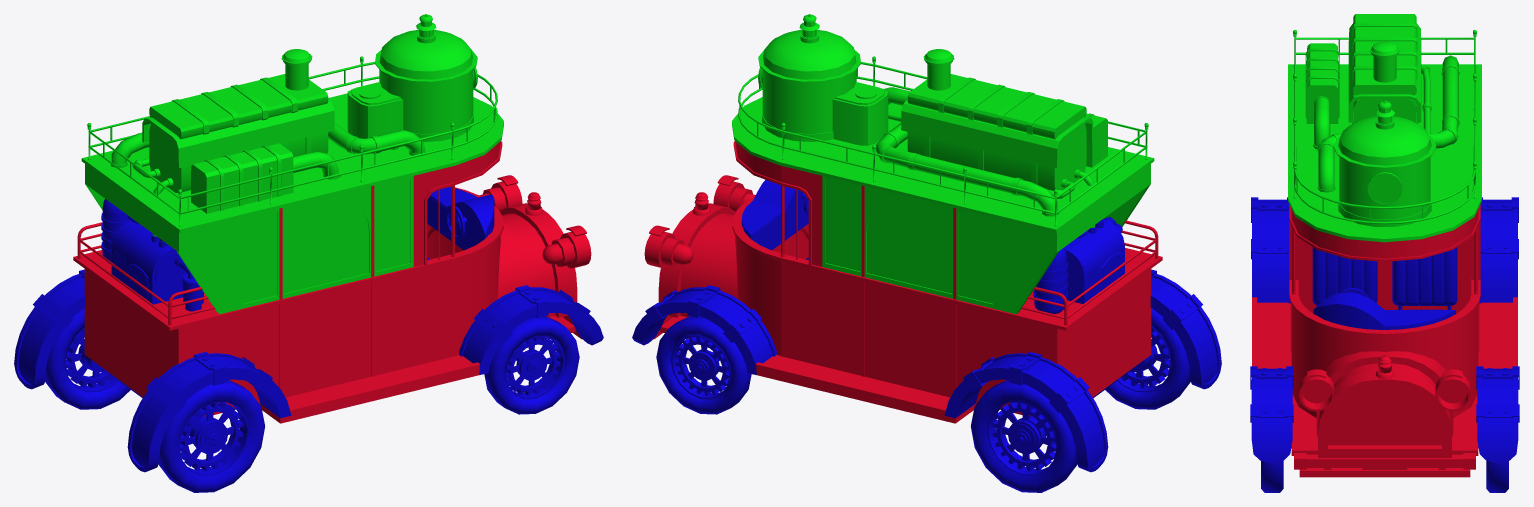
The model's file is SM_town_vehicle.fbx.
3 views of the same model, side by side, from view 1: azimuth 30°, elevation 25°; view 2: azimuth 150°, elevation 25°; view 3: azimuth 270°, elevation 25° (orthographic).
Parts seen in each view (by area): view 1: vehicle_top_join, vehicle_middle_join, vehicle_bottom_join; view 2: vehicle_top_join, vehicle_middle_join, vehicle_bottom_join; view 3: vehicle_middle_join, vehicle_top_join, vehicle_bottom_join.
Boxes of the visible parts, left/top/right/bottom form: vehicle_top_join: left=81, top=14, right=503, bottom=313; vehicle_middle_join: left=73, top=141, right=591, bottom=423; vehicle_bottom_join: left=14, top=187, right=603, bottom=492; vehicle_top_join: left=732, top=14, right=1154, bottom=313; vehicle_middle_join: left=644, top=141, right=1162, bottom=423; vehicle_bottom_join: left=632, top=179, right=1221, bottom=492; vehicle_middle_join: left=1252, top=204, right=1517, bottom=477; vehicle_top_join: left=1288, top=14, right=1481, bottom=242; vehicle_bottom_join: left=1250, top=197, right=1519, bottom=492.
Bounding box in the file's own units: 458 × 344 × 230.
